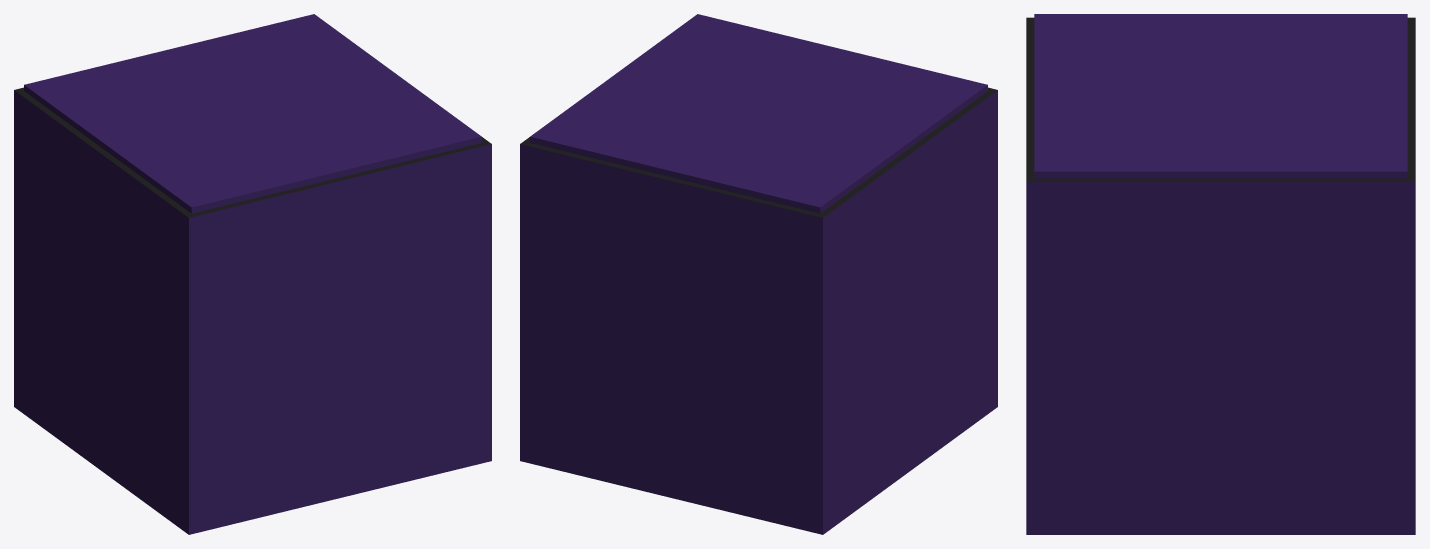
File: floor.glb
3 views of the same model, side by side, from view 1: azimuth 30°, elevation 25°; view 2: azimuth 150°, elevation 25°; view 3: azimuth 270°, elevation 25° (orthographic). The views are drawn at different scales.
Parts seen in each view (by area): view 1: floor; view 2: floor; view 3: floor.
Part boxes in pixels (x1,y1,x2,y2): floor: [14, 14, 491, 534]; floor: [520, 14, 997, 534]; floor: [1026, 14, 1415, 534].
Size of the model in its own units: 1 by 1.02 by 1.
